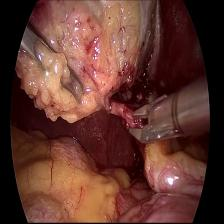Clipper: (127, 86, 183, 151)
Grasper: (21, 17, 92, 112)
